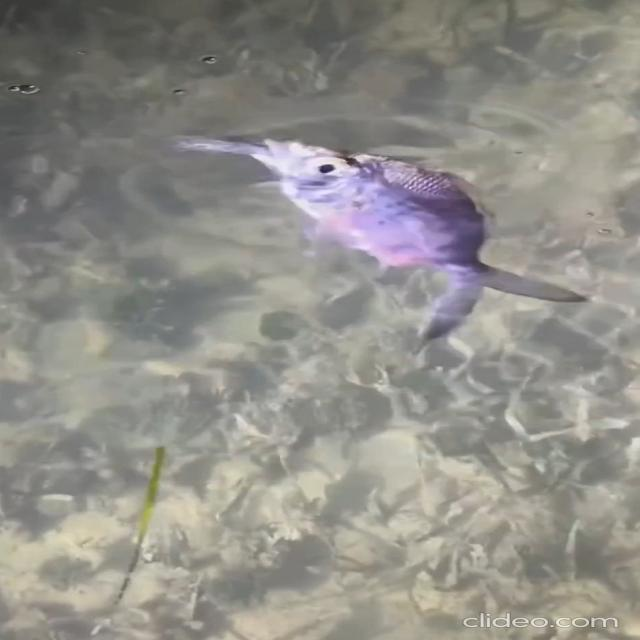fish: (200, 127, 620, 359)
